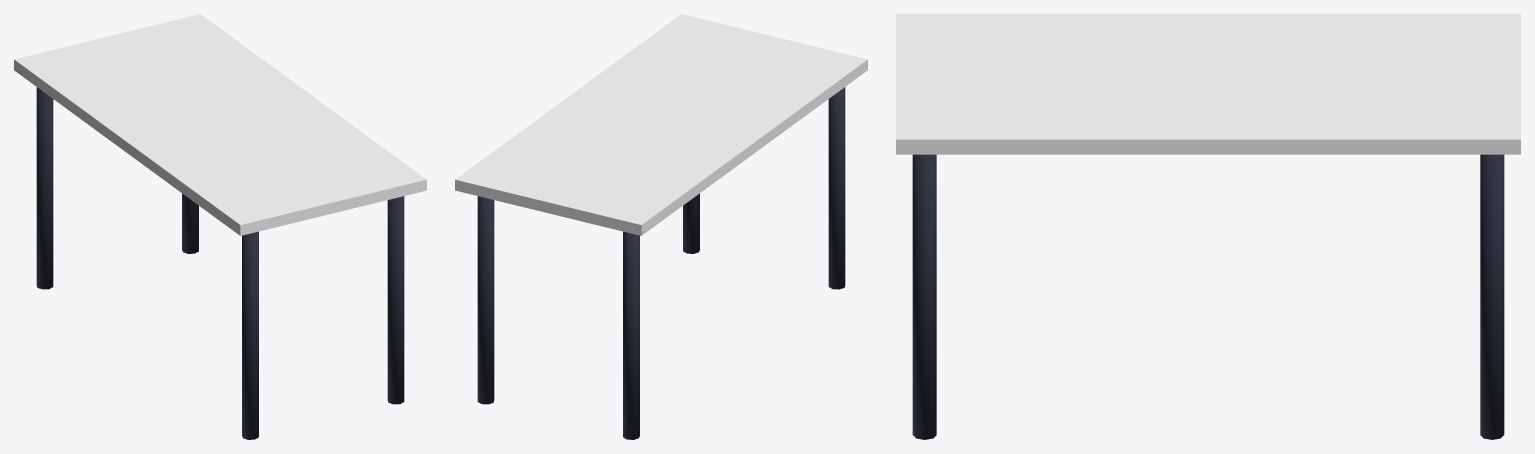
The model's file is table1.glb.
The picture shows the model from 3 angles, left to right: view 1: azimuth 30°, elevation 25°; view 2: azimuth 150°, elevation 25°; view 3: azimuth 270°, elevation 25°; orthographic projection. The views are drawn at different scales.
Parts seen in each view (by area): view 1: table_base_20; view 2: table_base_20; view 3: table_base_20.
Boxes of the visible parts, x1,y1,x2,y2 form: table_base_20: (14, 14, 426, 439); table_base_20: (455, 14, 867, 439); table_base_20: (896, 14, 1520, 439).
Size of the model in its own units: 3.85 by 4.41 by 8.09.
Materials: 1 (1 with a texture image).
